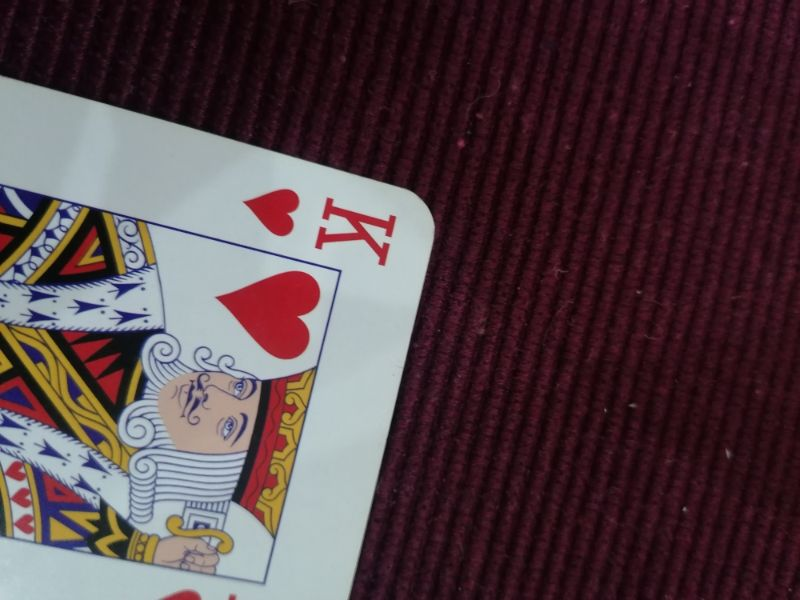Kh: (238, 175, 399, 271)
